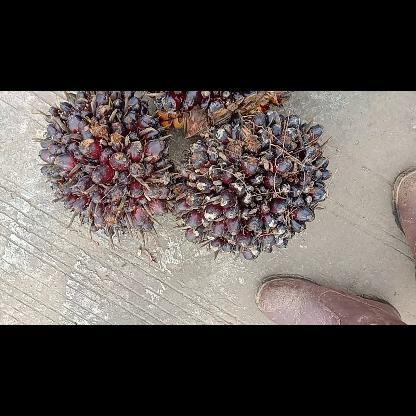TBS mentah: (172, 108, 332, 262), (32, 91, 176, 237)
